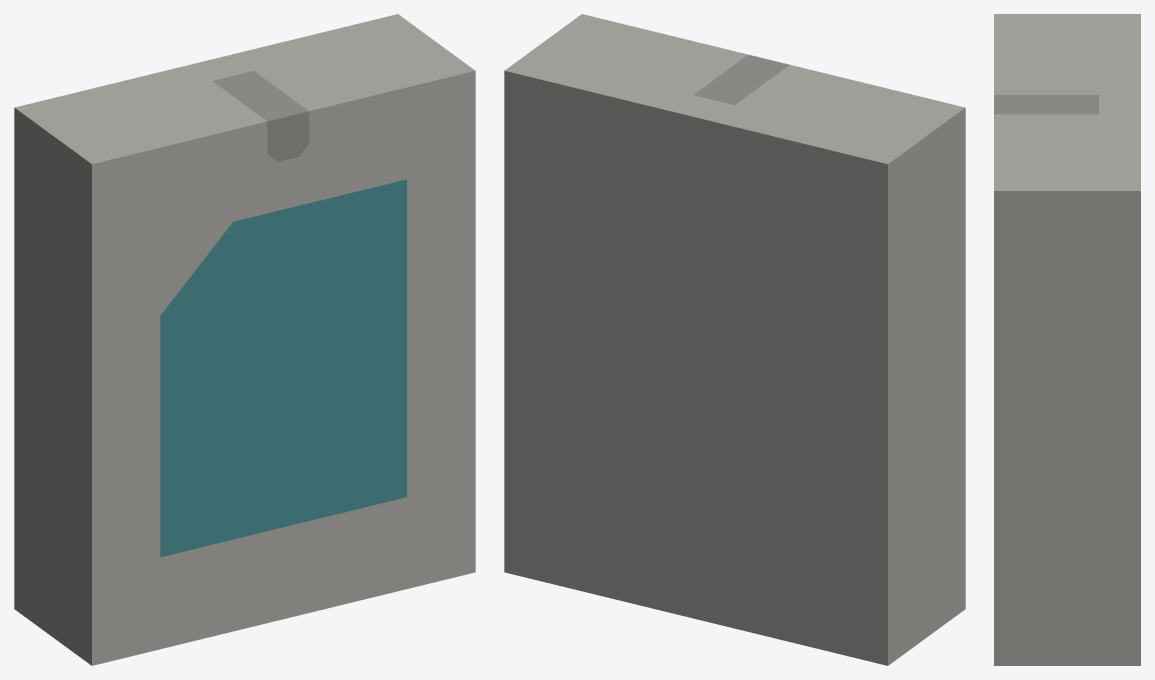
File: SM_Props_Interior_Shop_Electronic_Product_Box_05.fbx
3 renders of one model, left to right at view 1: azimuth 30°, elevation 25°; view 2: azimuth 150°, elevation 25°; view 3: azimuth 270°, elevation 25°, orthographic. The views are drawn at different scales.
Parts seen in each view (by area): view 1: SM_Props_Interior_Shop_Electronic_Product_Box_05; view 2: SM_Props_Interior_Shop_Electronic_Product_Box_05; view 3: SM_Props_Interior_Shop_Electronic_Product_Box_05.
Part boxes in pixels (x1=…): SM_Props_Interior_Shop_Electronic_Product_Box_05: x1=14, y1=14, x2=475, y2=665; SM_Props_Interior_Shop_Electronic_Product_Box_05: x1=504, y1=14, x2=965, y2=665; SM_Props_Interior_Shop_Electronic_Product_Box_05: x1=994, y1=14, x2=1140, y2=665.
Bounding box in the file's own units: 16 × 20 × 5.6.
